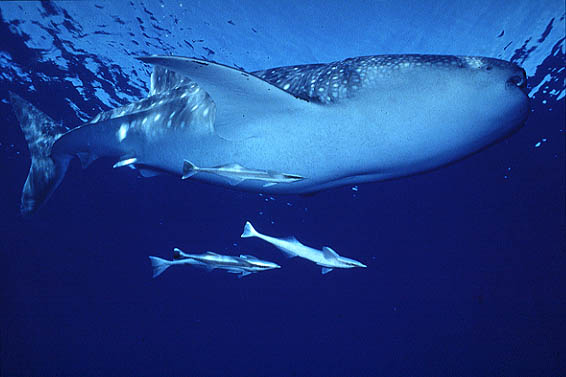Rhincodon_typusw: (7, 32, 533, 208)
